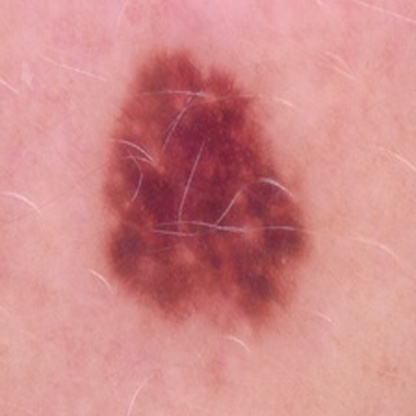benign: (104, 77, 283, 300)
